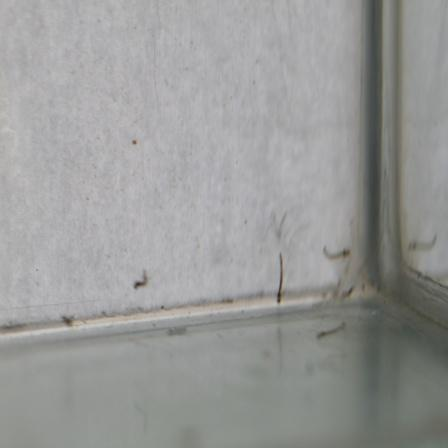Jentik-Nyamuk: (273, 250, 286, 308)
